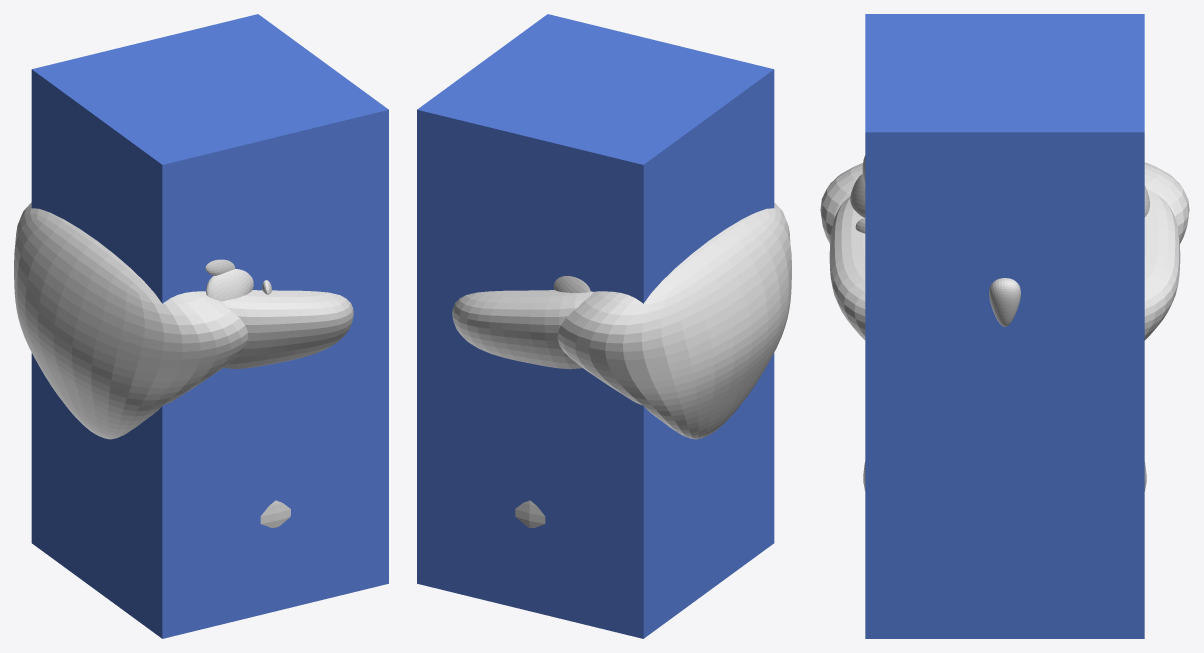
The model's file is zozio_Jam.fbx.
3 renders of one model, left to right at view 1: azimuth 30°, elevation 25°; view 2: azimuth 150°, elevation 25°; view 3: azimuth 270°, elevation 25°, orthographic. The views are drawn at different scales.
Parts seen in each view (by area): view 1: Chara Unity size ref, BlockingOutFur2, BlockingOutFur1, Cube.005, CloakBlockingOut; view 2: Chara Unity size ref, BlockingOutFur2, BlockingOutFur1, CloakBlockingOut; view 3: Chara Unity size ref, BlockingOutFur1, BlockingOutFur2, BeakBlockingOut.
Boxes of the visible parts, <box> form: Chara Unity size ref: <box>31,14,388,638</box>; BlockingOutFur2: <box>14,202,248,439</box>; BlockingOutFur1: <box>223,290,353,369</box>; Cube.005: <box>206,269,253,301</box>; CloakBlockingOut: <box>260,500,290,527</box>; Chara Unity size ref: <box>417,14,774,638</box>; BlockingOutFur2: <box>557,202,791,439</box>; BlockingOutFur1: <box>452,290,592,369</box>; CloakBlockingOut: <box>515,500,545,527</box>; Chara Unity size ref: <box>865,14,1144,638</box>; BlockingOutFur1: <box>829,189,1180,340</box>; BlockingOutFur2: <box>820,162,1189,243</box>; BeakBlockingOut: <box>989,278,1020,326</box>.
Size of the model in its own units: 124 by 200 by 132.
